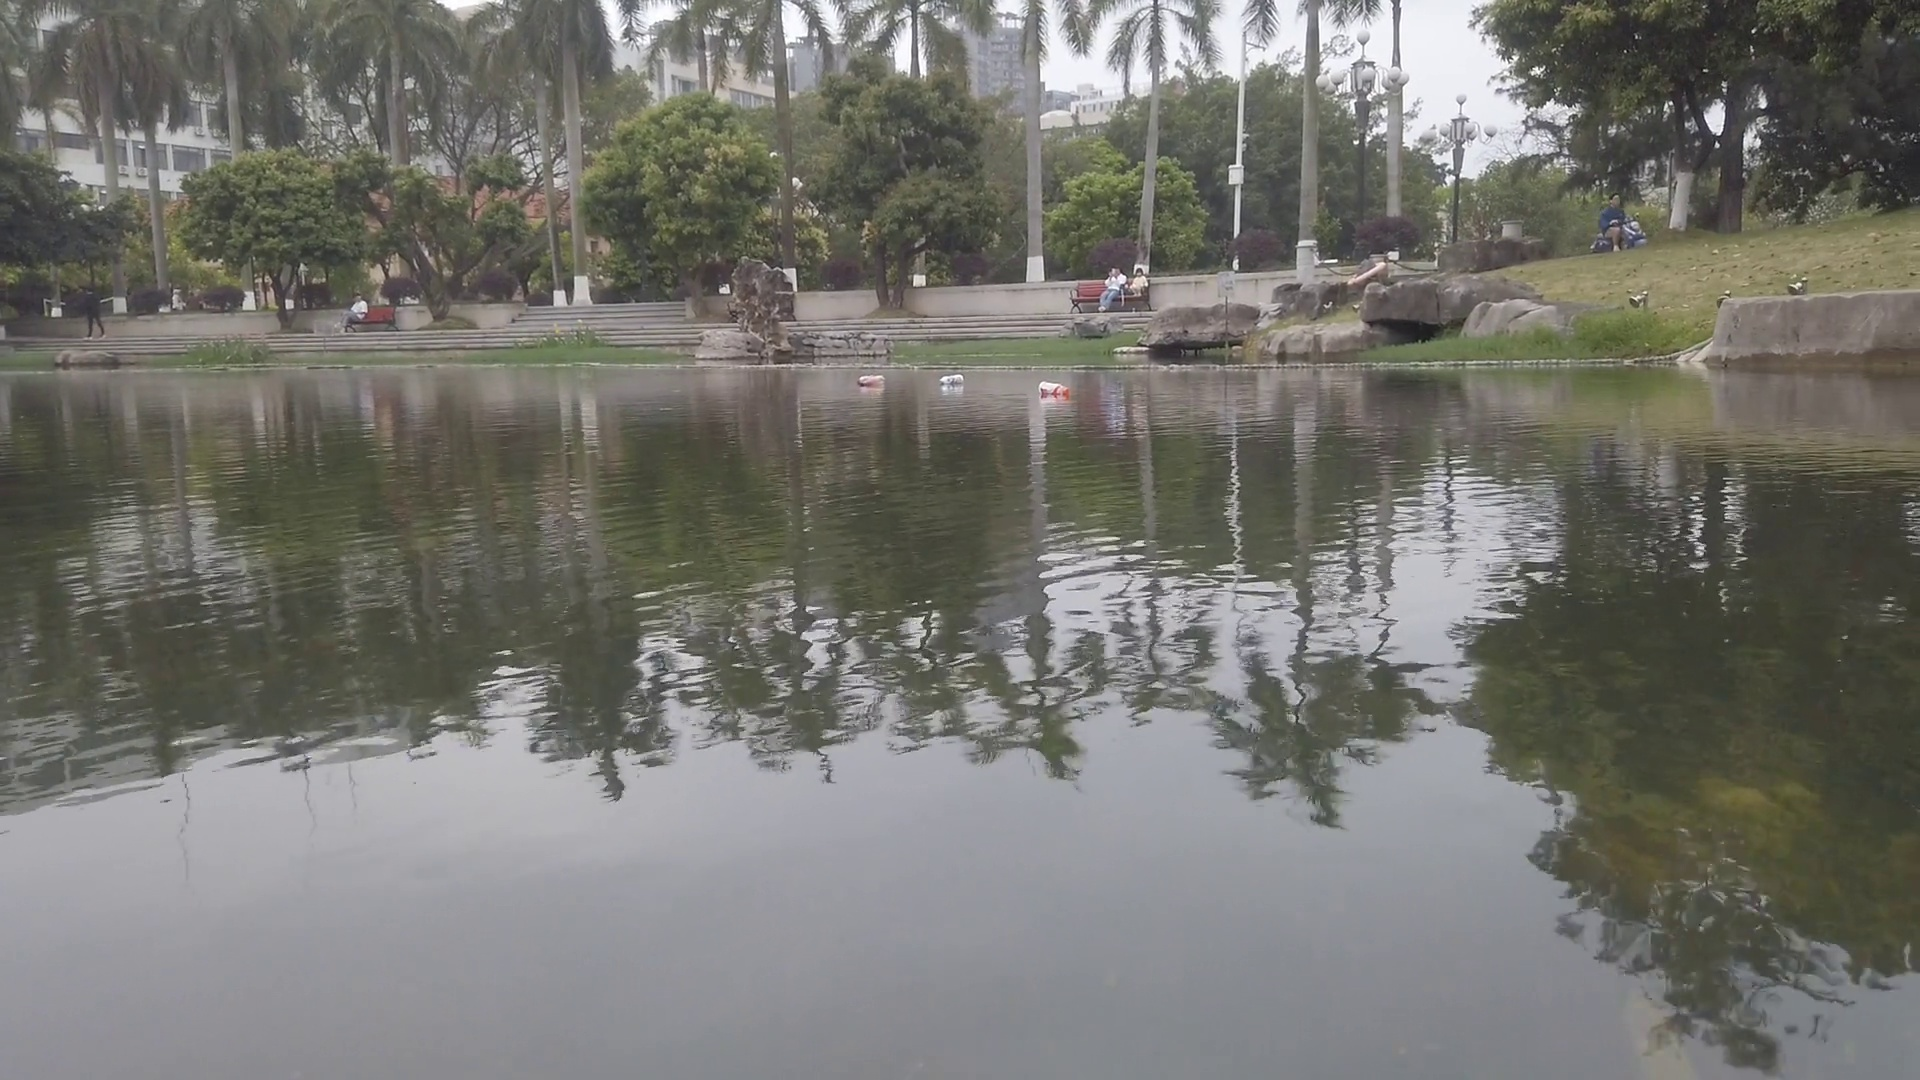bottle: (1039, 378, 1071, 398), (857, 375, 887, 386), (939, 375, 963, 385)
